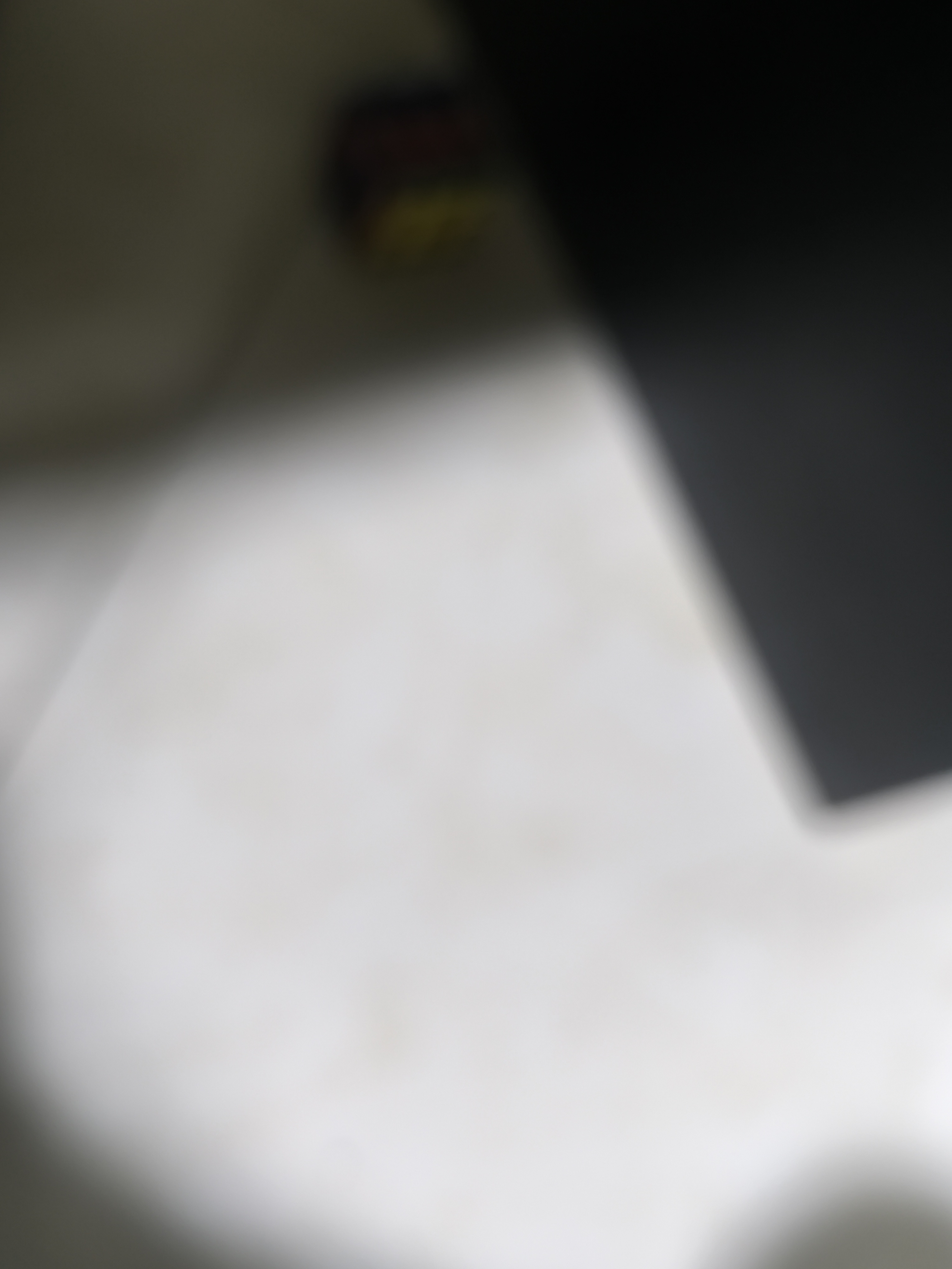cube_rubik: (311, 75, 506, 277)
